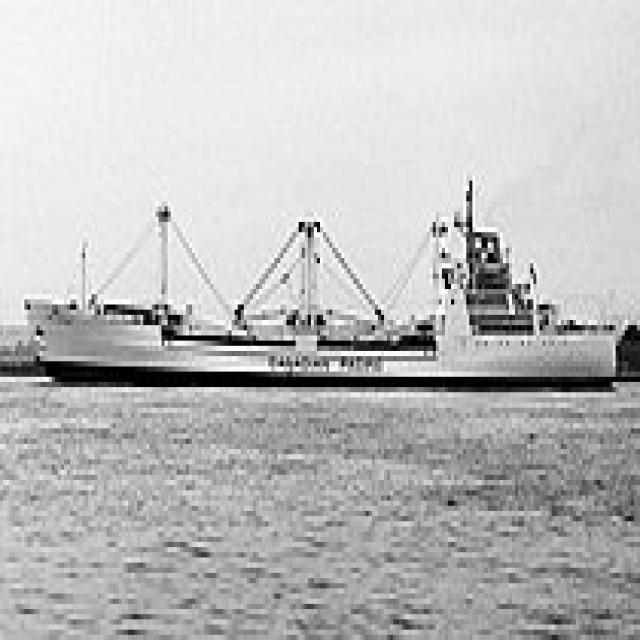Cargo: (15, 155, 616, 387)
